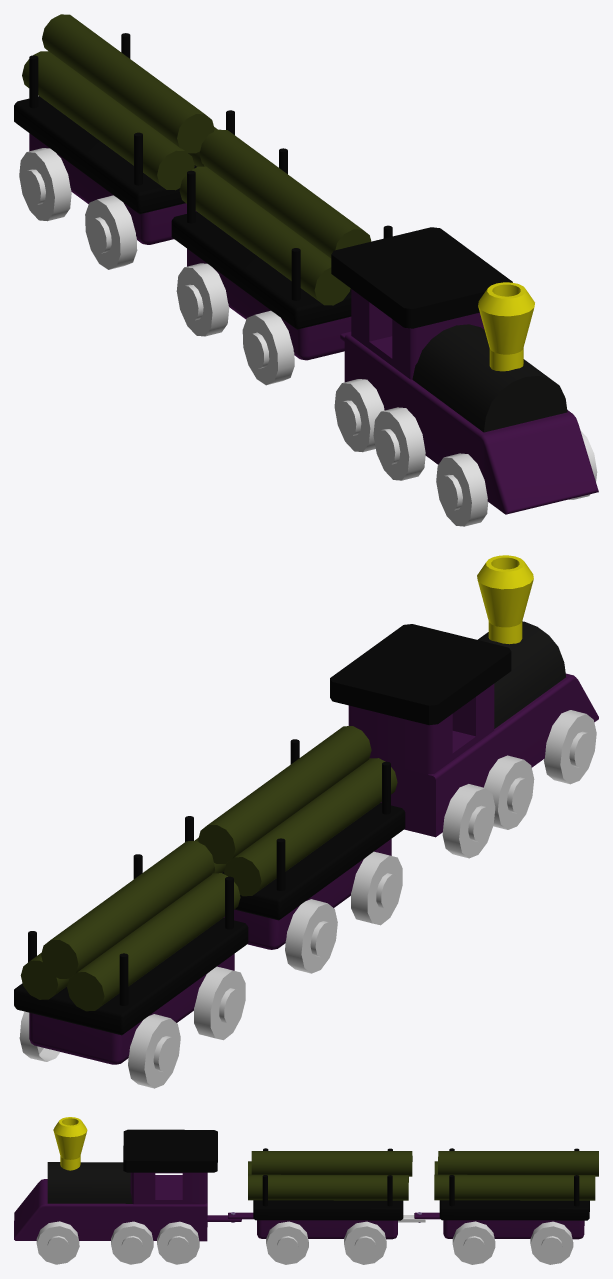
Rendered from staticMesh_prop_train.fbx.
3 renders of one model, top to bottom at view 1: azimuth 30°, elevation 25°; view 2: azimuth 150°, elevation 25°; view 3: azimuth 270°, elevation 25°, orthographic. The views are drawn at different scales.
Parts seen in each view (by area): view 1: polySurface186, polySurface191, polySurface190, polySurface189 (×2), polySurface188 (×2), polySurface165, polySurface164, polySurface166; view 2: polySurface186, polySurface191, polySurface190, polySurface189 (×2), polySurface188 (×2), polySurface166, polySurface164, polySurface165, polySurface168; view 3: polySurface186, polySurface191, polySurface190, polySurface167 (×2), polySurface168 (×2), polySurface160, polySurface162, polySurface163.
Boxes of the visible parts, box(x1,y1,x2,y2) form: polySurface186: box(331, 227, 598, 514); polySurface191: box(14, 14, 234, 244); polySurface190: box(171, 129, 392, 360); polySurface189 (×2): box(19, 148, 229, 336); polySurface188 (×2): box(85, 195, 294, 385); polySurface165: box(373, 407, 425, 480); polySurface164: box(436, 453, 488, 526); polySurface166: box(334, 379, 384, 452); polySurface186: box(330, 555, 598, 837); polySurface191: box(14, 841, 248, 1064); polySurface190: box(185, 726, 405, 949); polySurface189 (×2): box(128, 899, 337, 1088); polySurface188 (×2): box(194, 851, 402, 1040); polySurface166: box(442, 784, 495, 858); polySurface164: box(543, 710, 596, 784); polySurface165: box(484, 755, 534, 829); polySurface168: box(19, 1011, 60, 1061); polySurface186: box(14, 1117, 241, 1241); polySurface191: box(414, 1148, 598, 1239); polySurface190: box(228, 1148, 412, 1239); polySurface167 (×2): box(266, 1221, 495, 1264); polySurface168 (×2): box(344, 1221, 573, 1264); polySurface160: box(36, 1221, 79, 1264); polySurface162: box(111, 1221, 153, 1264); polySurface163: box(157, 1221, 199, 1264).
Size of the model in its own units: 30.08 by 44.59 by 189.
